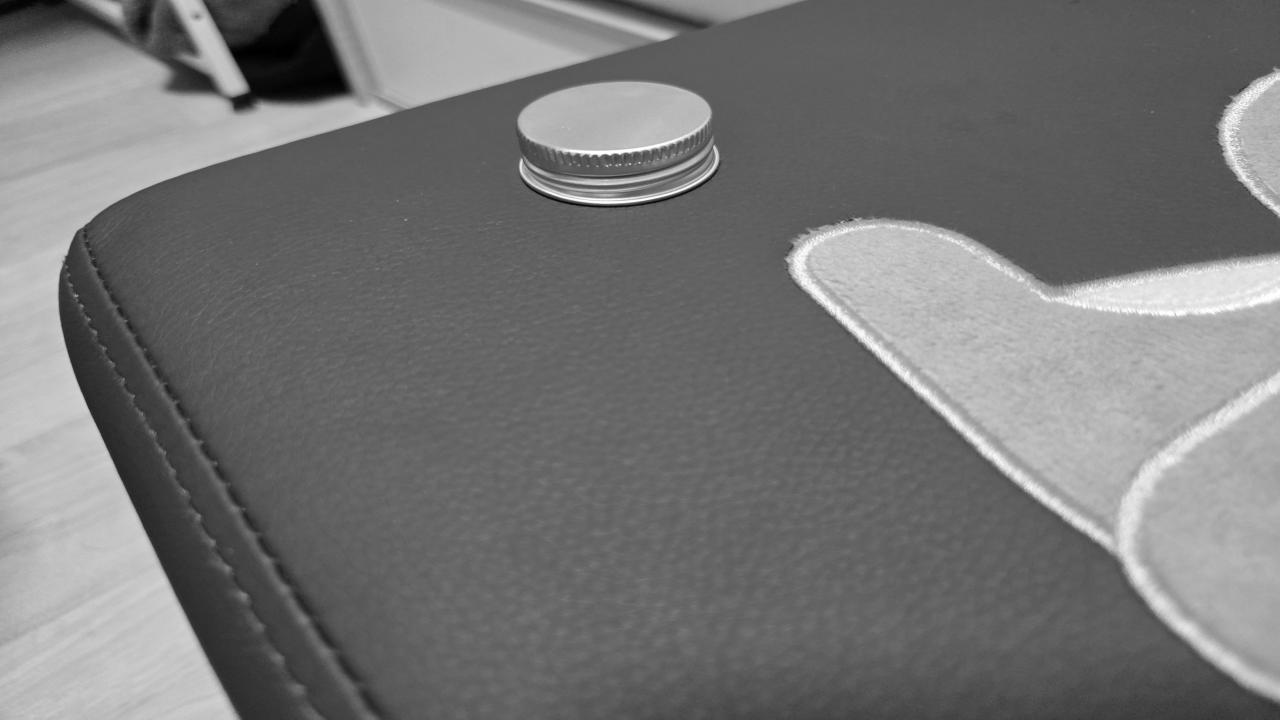bottle_cap: (520, 84, 718, 203)
